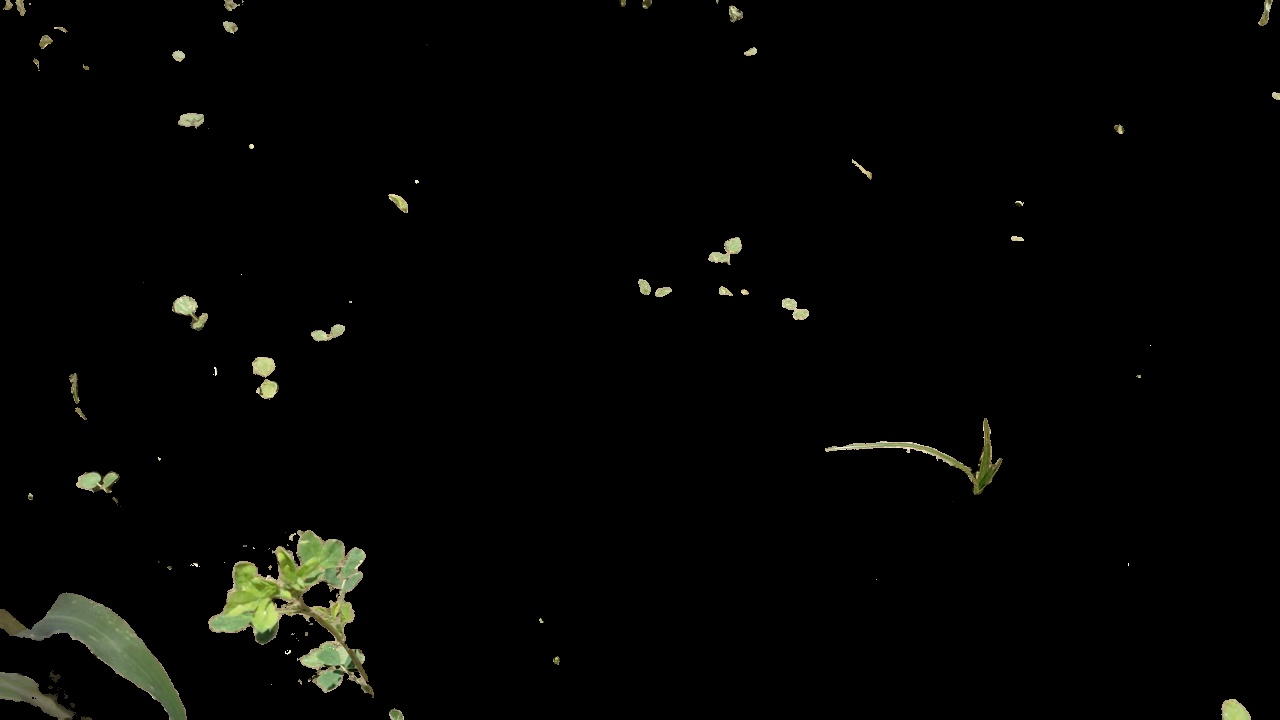crop: (4, 548, 190, 720)
weed: (206, 522, 387, 695), (821, 417, 1015, 496), (246, 348, 285, 404), (170, 293, 220, 335), (78, 462, 124, 500), (705, 233, 745, 266), (304, 322, 359, 345), (635, 274, 683, 299), (176, 103, 212, 132), (782, 295, 818, 322), (710, 283, 758, 299)
